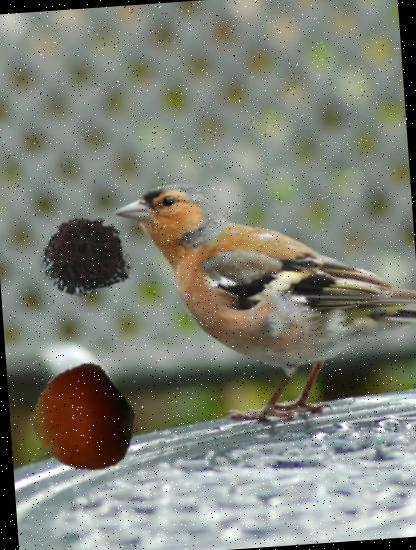Nut: (26, 364, 142, 479)
Rambutan: (40, 210, 138, 306)
